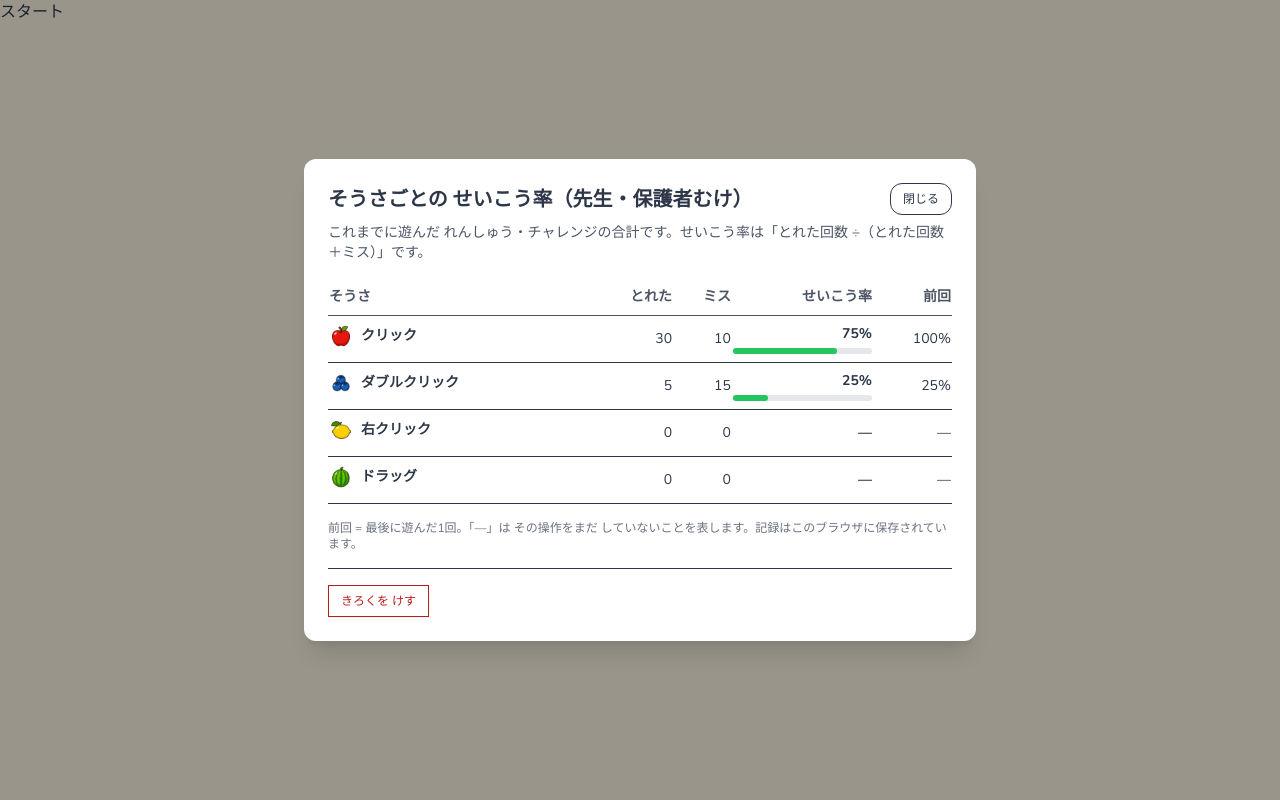
Test: OperationReportModal: きろくを けす › RST-A-01: 「やめる」なら消さず、「きろくを けす」へ戻る
# Given: 確認を出した When: やめる
Step 1. Click the button "きろくを けす" → {"x": 379, "y": 601}, box x1=328 y1=585 x2=429 y2=617
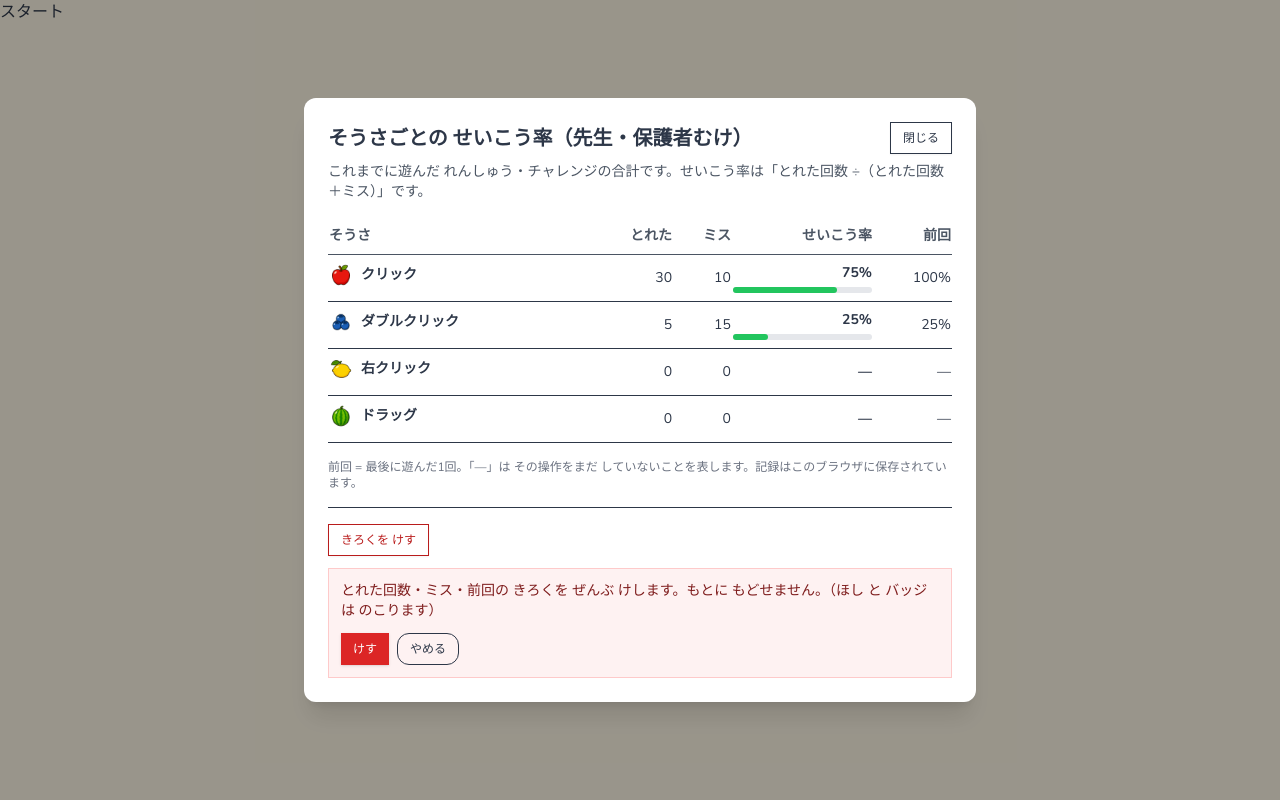
Step 2. Click the button "やめる" → {"x": 428, "y": 649}, box x1=397 y1=633 x2=459 y2=665
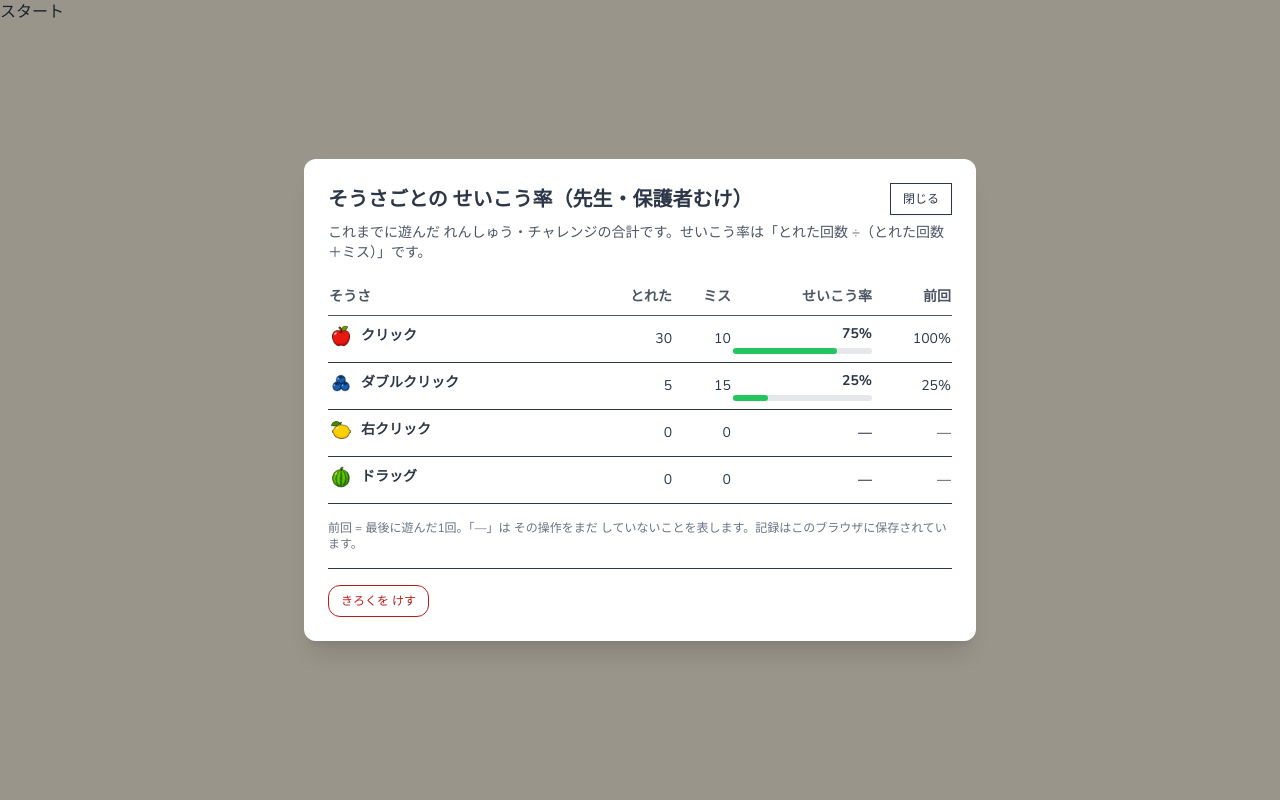
Expected: the text "とれた回数・ミス・前回の きろくを ぜんぶ けします。もとに もどせません。（ほし と バッジ は のこります）" is gone
